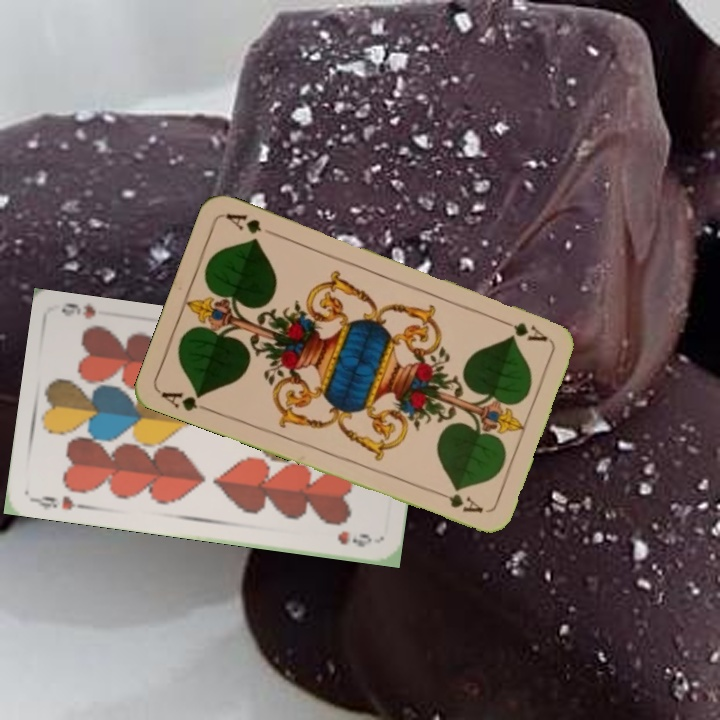GA: (157, 387, 215, 415), (494, 315, 550, 344)
H9: (30, 491, 89, 513)
